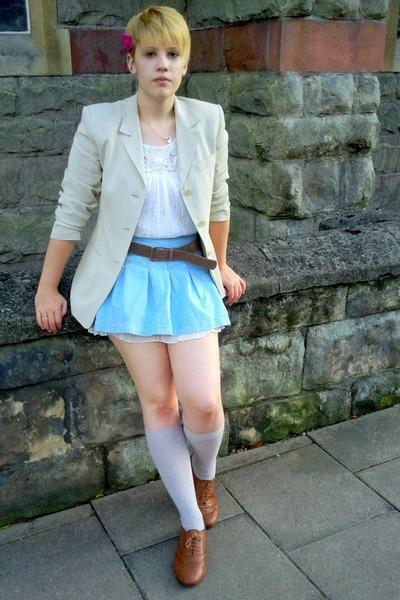jacket: (50, 84, 230, 335)
shirt: (132, 140, 196, 248)
shoe: (170, 468, 213, 587)
skirt: (95, 255, 230, 335)
